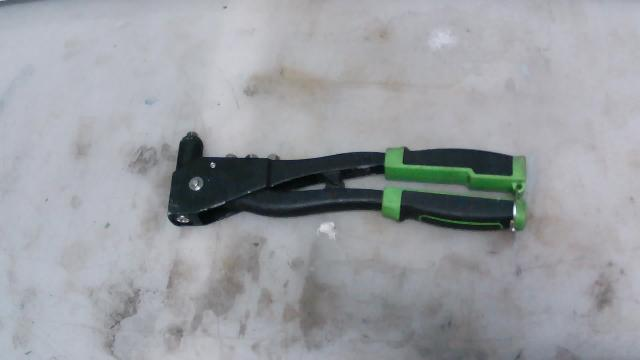tang_rivet: (141, 115, 578, 286)
